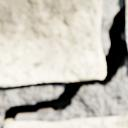brick: (0, 0, 104, 85), (4, 114, 127, 127), (126, 0, 127, 43)
crack: (1, 0, 127, 127)
